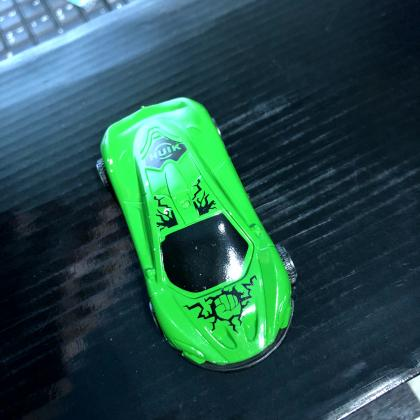Car: (100, 98, 294, 374)
